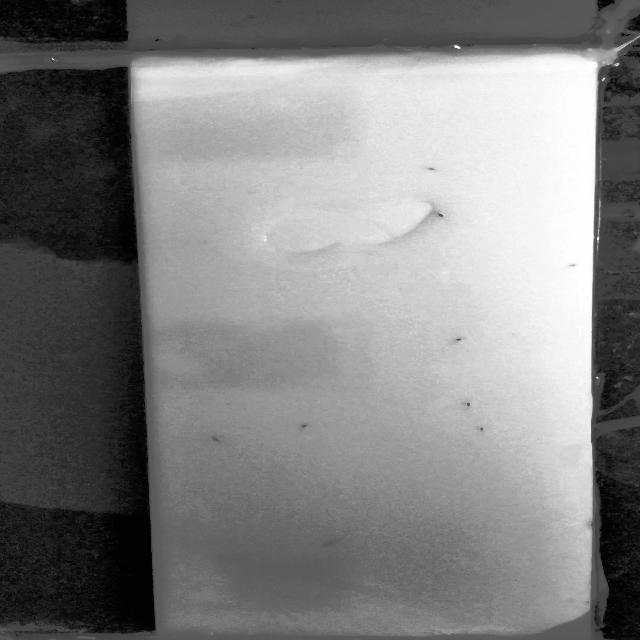shrimp: (207, 437, 230, 448), (320, 537, 340, 549), (296, 422, 319, 432), (464, 401, 479, 413), (564, 259, 580, 270), (422, 164, 441, 172), (474, 426, 491, 434), (448, 337, 466, 343), (435, 212, 448, 220)
